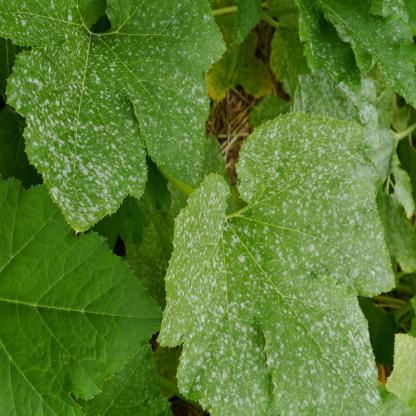squash powdery mildew leaf: (153, 110, 394, 416), (3, 0, 228, 226)
